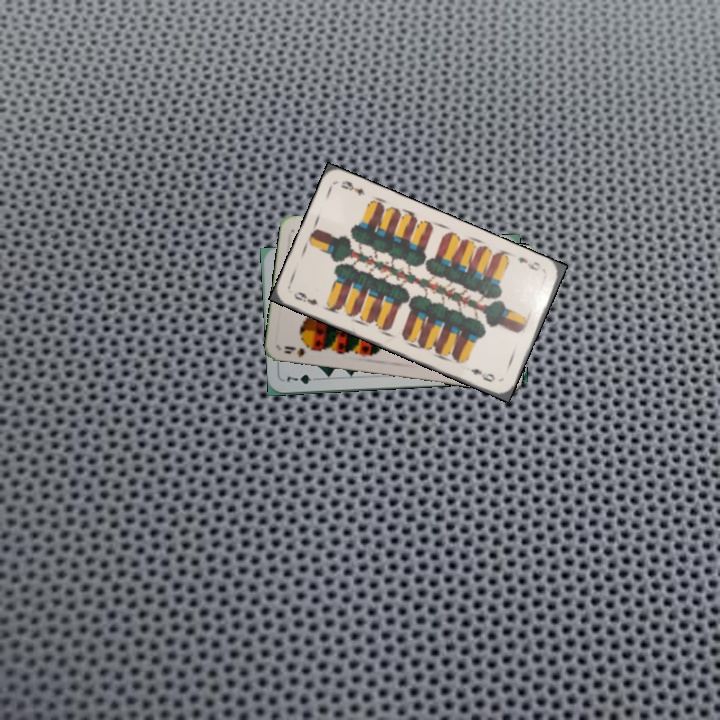E9: (289, 288, 320, 308), (514, 252, 543, 273)
G7: (283, 370, 322, 387)
S9: (280, 341, 319, 359)
